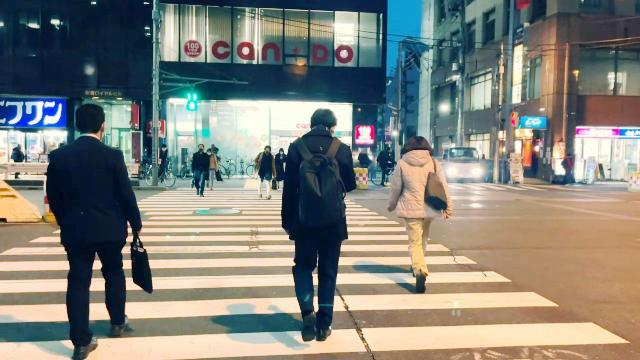berjalan: (44, 96, 148, 360), (277, 105, 355, 345), (386, 136, 454, 294)
